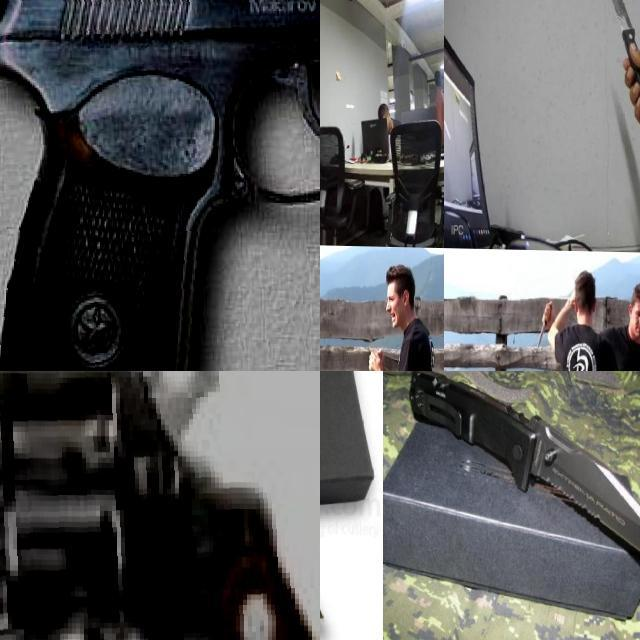-: (521, 405, 640, 568), (320, 475, 388, 627), (595, 0, 640, 115), (387, 371, 527, 398), (532, 294, 554, 350), (320, 230, 339, 243), (320, 371, 331, 385)
gun-knife-thesis - v11 Yolov5 augmented: (0, 0, 320, 371), (0, 371, 320, 640)
